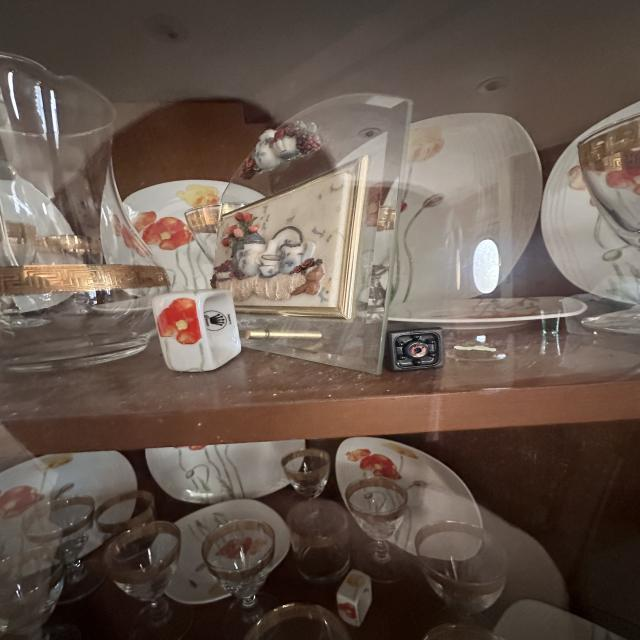hidden camera: (408, 343, 428, 358)
